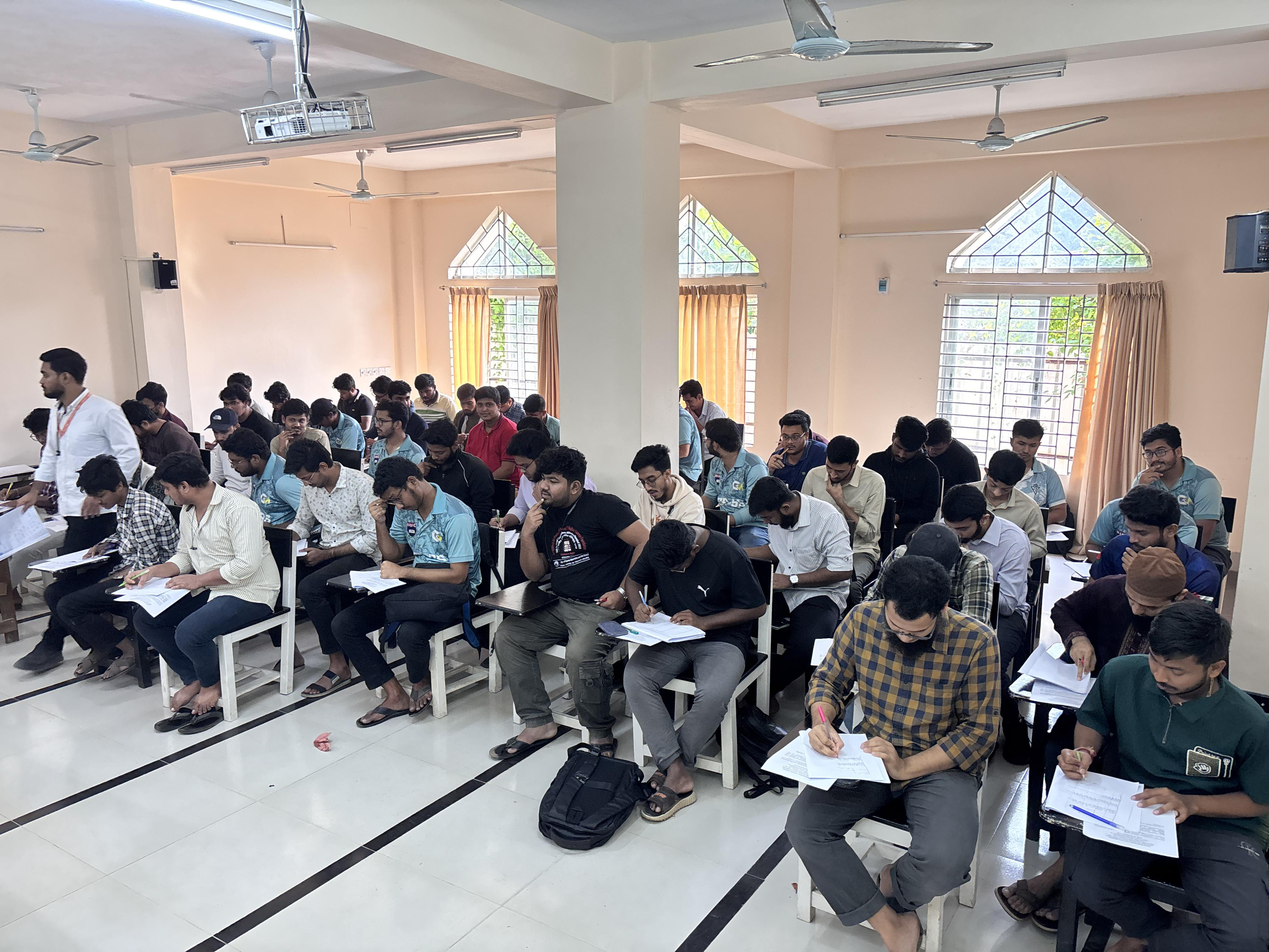copying: (141, 453, 229, 628), (201, 408, 236, 457)
invigilator: (31, 344, 111, 602)
no_cheating: (1072, 601, 1269, 952), (821, 550, 984, 816), (616, 514, 755, 731), (523, 450, 622, 680), (365, 454, 459, 637), (1084, 546, 1178, 655), (284, 441, 360, 562), (750, 471, 828, 583), (1138, 416, 1208, 491), (941, 481, 1011, 551), (80, 464, 126, 570), (1104, 490, 1187, 545), (818, 431, 870, 518), (876, 416, 929, 501), (225, 430, 278, 510), (1010, 416, 1065, 478), (769, 412, 819, 476), (422, 421, 472, 485), (120, 400, 180, 453), (979, 454, 1042, 501), (634, 438, 677, 506), (367, 400, 412, 464), (279, 396, 319, 440), (309, 395, 351, 430), (329, 370, 365, 410), (454, 381, 481, 425), (413, 370, 443, 405), (388, 381, 420, 412), (265, 381, 295, 403)
side_talking: (503, 425, 553, 522), (702, 419, 747, 508), (473, 386, 516, 458), (684, 378, 718, 419)
